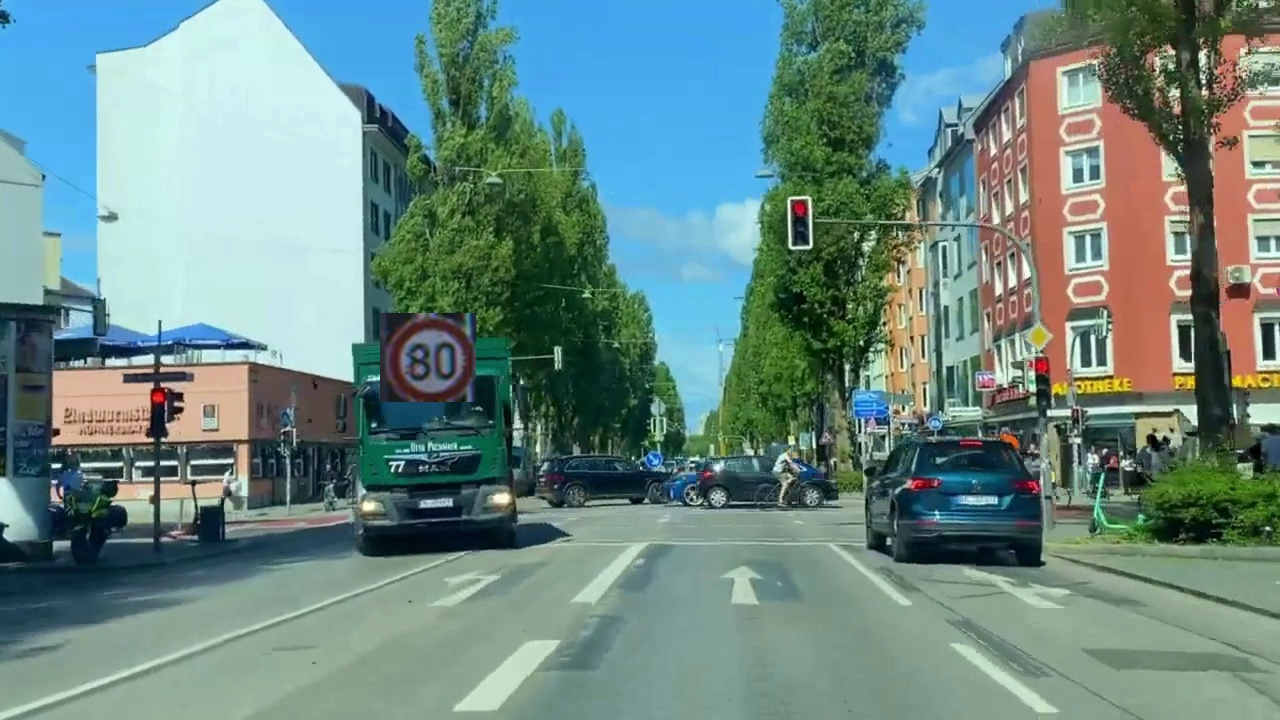Speed 80: (380, 313, 476, 402)
